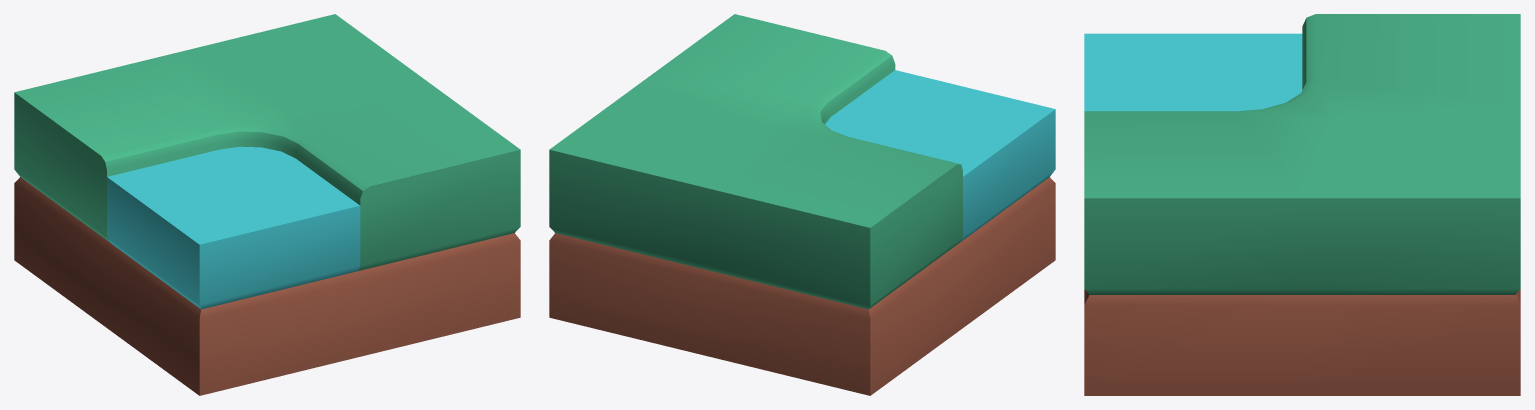
The model's file is kaykit-square-forest-waterinnercorner.glb.
3 views of the same model, side by side, from view 1: azimuth 30°, elevation 25°; view 2: azimuth 150°, elevation 25°; view 3: azimuth 270°, elevation 25° (orthographic). The views are drawn at different scales.
Visible parts, largest first — view 1: square_forest_waterInnerCorner; view 2: square_forest_waterInnerCorner; view 3: square_forest_waterInnerCorner.
Boxes of the visible parts, x1,y1,x2,y2 form: square_forest_waterInnerCorner: (14,14,520,395); square_forest_waterInnerCorner: (549,14,1055,395); square_forest_waterInnerCorner: (1084,14,1520,395).
Bounding box in the file's own units: 2 × 1 × 2.
